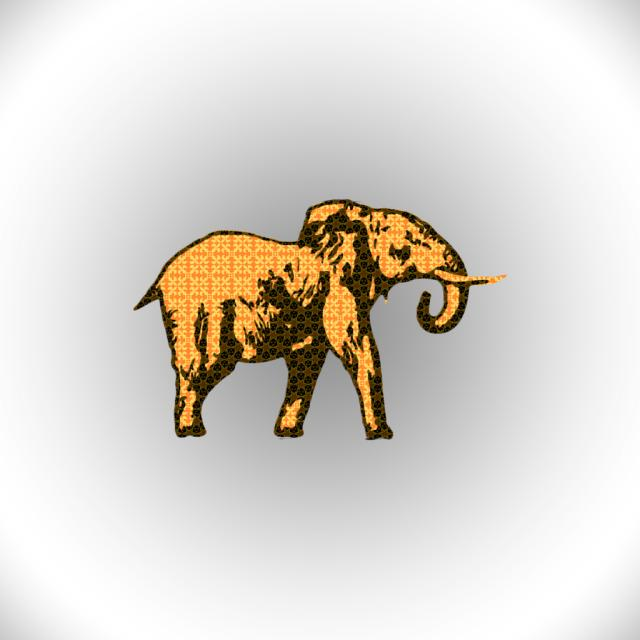elephant: (129, 194, 509, 438)
